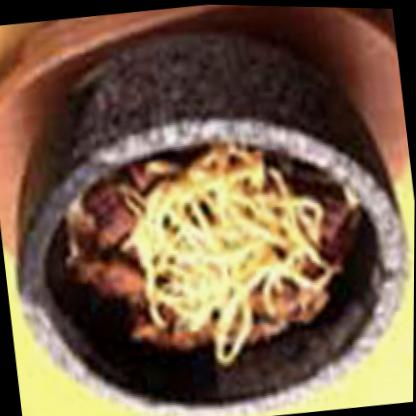bibimbap: (29, 106, 386, 415)
